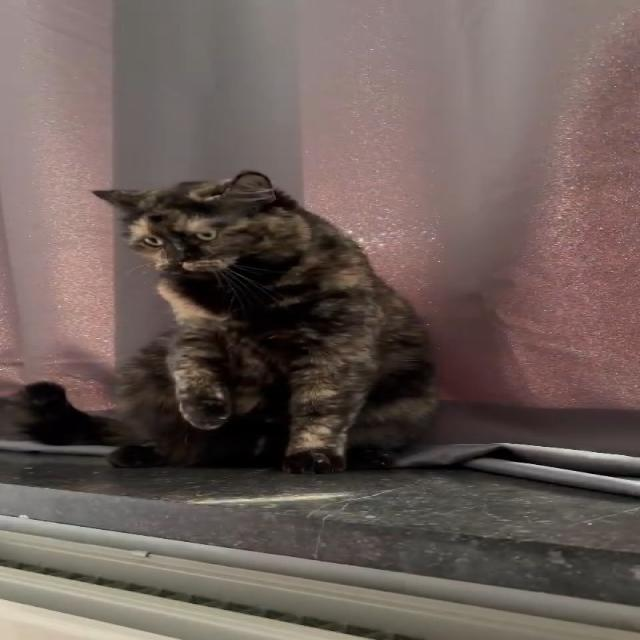authorized: (89, 169, 440, 475)
